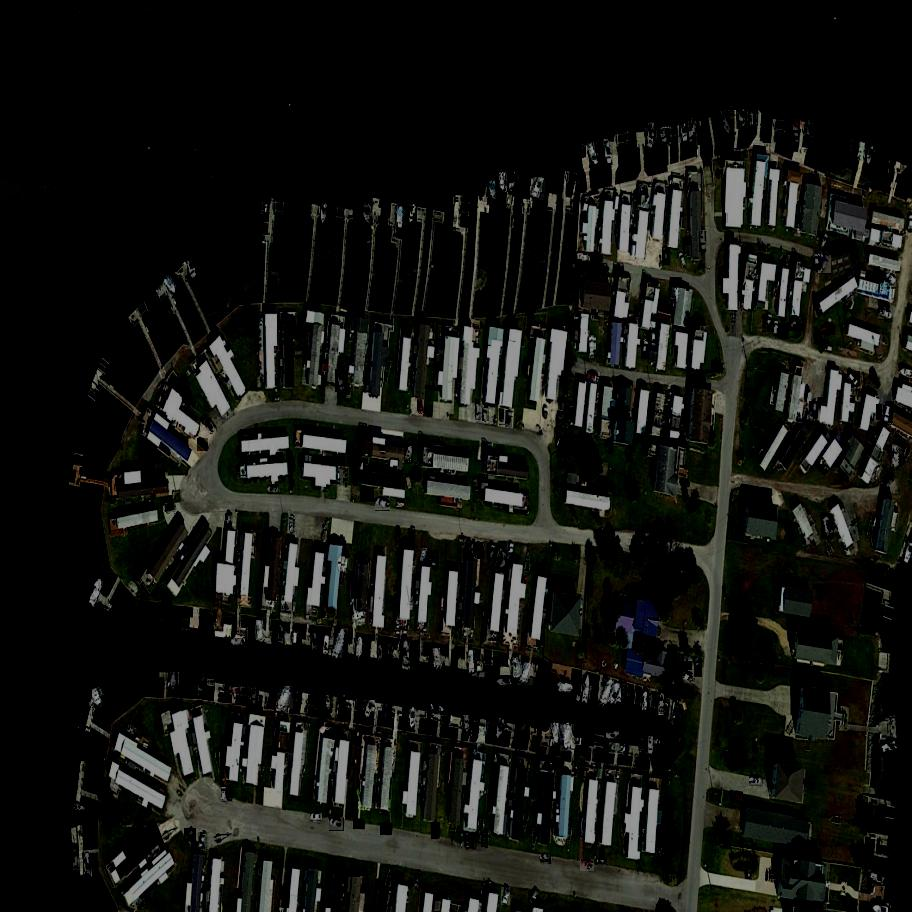ship: (88, 576, 108, 610), (331, 627, 350, 662), (716, 107, 736, 137), (161, 273, 182, 297), (586, 140, 603, 169), (276, 685, 294, 711), (530, 178, 548, 202), (599, 680, 614, 707), (400, 639, 412, 672), (560, 724, 574, 752), (485, 177, 500, 203), (518, 662, 534, 686), (820, 514, 835, 539), (607, 683, 622, 707), (614, 681, 628, 706), (187, 258, 201, 283), (516, 718, 531, 741), (196, 675, 209, 700), (495, 716, 508, 741), (688, 119, 700, 146), (809, 402, 823, 425), (362, 700, 377, 721), (870, 871, 889, 887), (582, 675, 592, 705), (336, 370, 349, 393), (433, 648, 445, 672), (881, 741, 900, 756), (647, 123, 657, 151), (361, 204, 373, 227), (865, 142, 876, 167), (736, 109, 749, 130), (604, 730, 623, 744), (656, 693, 668, 715), (550, 723, 562, 745), (603, 139, 613, 165), (508, 171, 519, 194), (679, 122, 691, 143), (91, 689, 104, 708), (204, 617, 215, 639), (496, 675, 513, 689), (788, 317, 805, 331), (511, 657, 521, 680), (255, 620, 264, 645), (429, 703, 446, 716), (405, 443, 416, 463), (472, 672, 490, 684), (659, 128, 671, 146), (71, 803, 87, 816), (641, 690, 650, 713), (378, 642, 387, 665), (409, 707, 418, 730), (500, 173, 510, 193), (892, 445, 900, 469), (320, 202, 328, 225), (407, 206, 417, 224), (462, 715, 471, 735), (558, 683, 574, 694), (324, 693, 333, 712), (501, 551, 508, 574), (472, 478, 482, 494), (576, 253, 589, 265), (649, 735, 656, 757), (356, 637, 363, 658), (278, 623, 284, 647), (469, 650, 475, 674), (784, 255, 794, 269), (397, 207, 403, 230), (72, 849, 78, 872), (84, 854, 90, 876), (230, 639, 244, 648), (313, 633, 319, 654), (700, 231, 706, 252), (794, 119, 800, 138), (172, 669, 177, 691), (643, 331, 651, 340), (388, 644, 392, 658)
small-vehicle: (359, 487, 377, 503), (818, 255, 832, 274), (846, 371, 861, 387), (763, 314, 775, 333), (329, 818, 345, 832), (375, 498, 391, 512), (200, 418, 216, 432), (819, 233, 831, 251), (883, 274, 898, 288), (681, 686, 696, 700), (682, 670, 697, 684), (198, 832, 209, 851), (662, 248, 673, 266), (501, 888, 512, 906), (487, 543, 498, 561), (184, 829, 198, 843), (586, 372, 602, 384), (778, 323, 790, 339), (642, 340, 652, 359), (677, 253, 688, 270), (876, 311, 893, 322), (529, 890, 540, 907), (379, 823, 394, 835), (431, 822, 441, 839), (580, 859, 594, 871), (196, 439, 210, 451), (729, 792, 744, 803), (507, 543, 516, 561), (505, 410, 514, 428), (680, 661, 694, 672), (665, 390, 674, 407), (415, 872, 424, 889), (475, 542, 484, 559), (694, 659, 702, 677), (225, 513, 234, 528), (344, 385, 352, 401), (885, 406, 892, 424), (409, 528, 415, 549), (354, 820, 366, 830), (420, 548, 428, 563), (814, 254, 821, 271), (267, 485, 280, 494), (470, 834, 478, 848), (432, 553, 439, 568), (821, 326, 834, 334), (309, 814, 322, 822), (483, 408, 490, 422), (228, 786, 234, 802), (749, 778, 762, 785), (876, 404, 882, 419), (499, 409, 505, 424), (591, 254, 602, 262), (590, 336, 594, 358), (774, 321, 780, 335), (600, 849, 606, 863), (482, 831, 487, 847), (427, 550, 432, 566), (165, 504, 175, 512), (418, 400, 424, 413), (590, 268, 601, 275), (476, 405, 481, 420), (465, 833, 470, 848), (222, 787, 227, 801), (540, 854, 550, 861), (396, 530, 400, 546), (471, 543, 475, 556), (290, 517, 293, 532)
